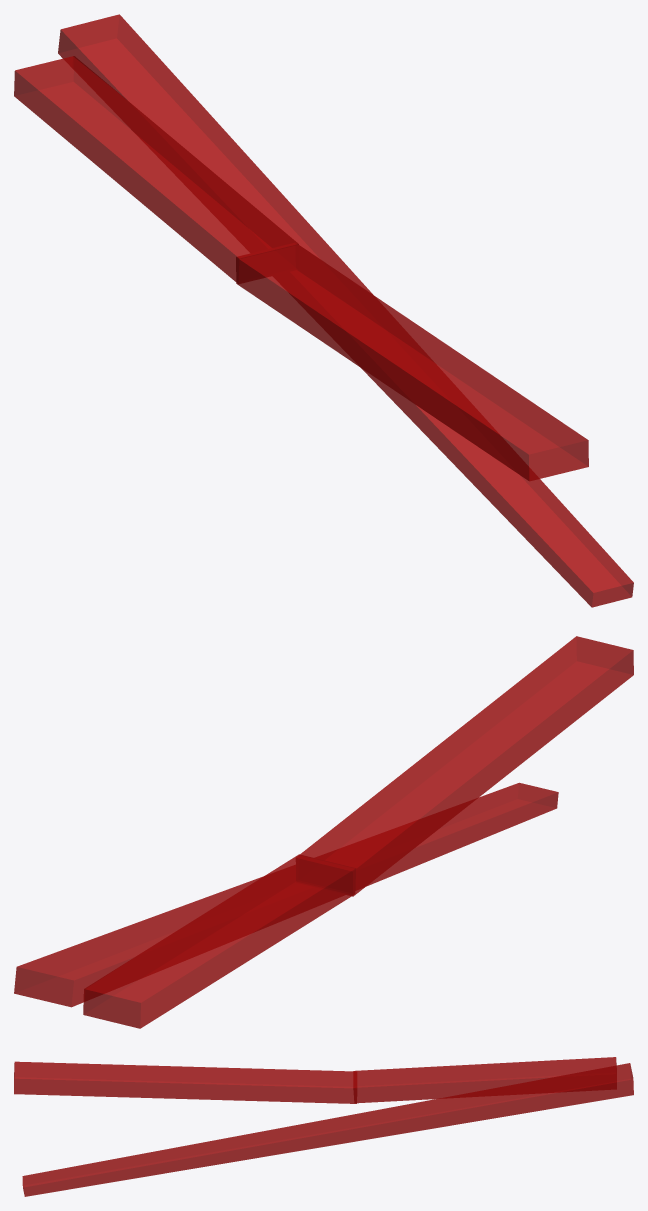
Rendered from SM_Prop_Jetty_Plank_05_Collision.fbx.
3 renders of one model, top to bottom at view 1: azimuth 30°, elevation 25°; view 2: azimuth 150°, elevation 25°; view 3: azimuth 270°, elevation 25°, orthographic. The views are drawn at different scales.
Visible parts, largest first — view 1: SM_Prop_Jetty_Plank_05_Collision; view 2: SM_Prop_Jetty_Plank_05_Collision; view 3: SM_Prop_Jetty_Plank_05_Collision.
Part boxes in pixels (x1,y1,x2,y2): SM_Prop_Jetty_Plank_05_Collision: (14, 14, 633, 607); SM_Prop_Jetty_Plank_05_Collision: (14, 636, 633, 1028); SM_Prop_Jetty_Plank_05_Collision: (14, 1057, 633, 1196).
Bounding box in the file's own units: 77.2 × 127 × 604.
